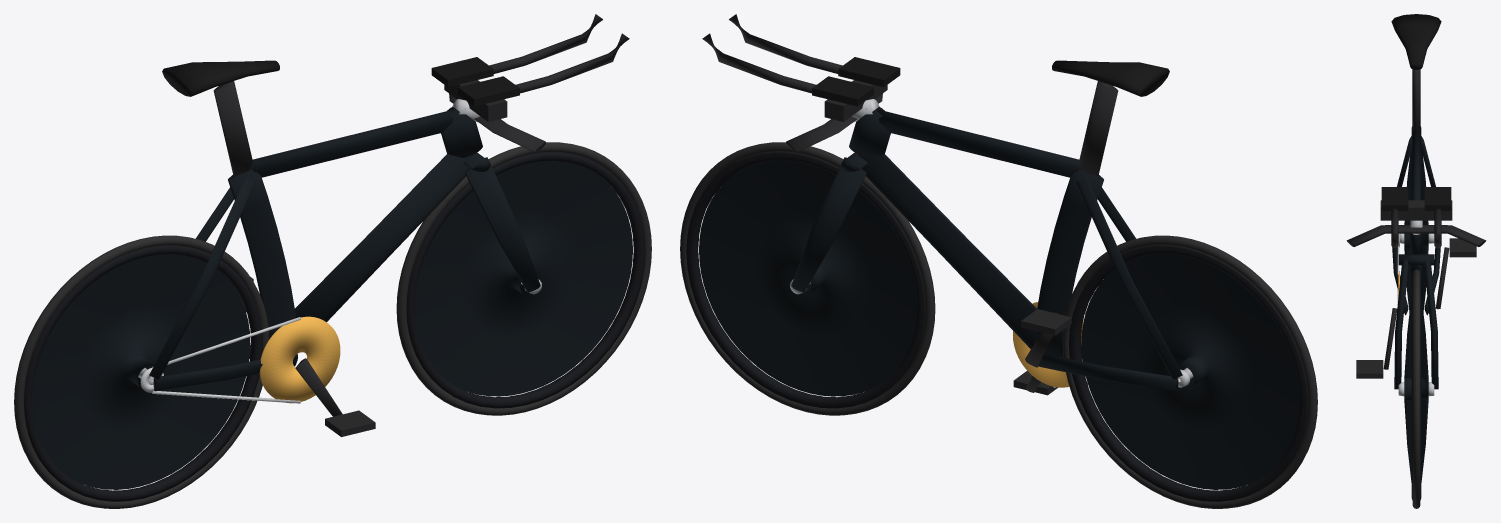
File: bike.glb
3 renders of one model, left to right at view 1: azimuth 30°, elevation 25°; view 2: azimuth 150°, elevation 25°; view 3: azimuth 270°, elevation 25°, orthographic. The views are drawn at different scales.
Visible parts, largest first — view 1: wheel_front_disc, wheel_rear_disc, wheel_front_rim, wheel_rear_rim, down_tube, wheel_rear_tyre, wheel_front_tyre, chainring, seat_tube, top_tube, fork_l, seatstay_l (+12 smaller); view 2: wheel_front_disc, wheel_rear_disc, wheel_front_rim, wheel_rear_rim, down_tube, wheel_rear_tyre, wheel_front_tyre, seat_tube, top_tube, fork_r, seatstay_r, saddle (+11 smaller); view 3: wheel_front_tyre, wheel_front_disc, saddle, base_bar, wheel_rear_disc, fork_l, fork_r, wheel_front_rim, pad_riser, armpad_l, armpad_r, top_tube (+14 smaller).
Boxes of the visible parts, x1,y1,x2,y2 form: wheel_front_disc: (415,160,632,396); wheel_rear_disc: (32,254,250,489); wheel_front_rim: (406,152,645,408); wheel_rear_rim: (24,245,262,501); down_tube: (295,154,473,322); wheel_rear_tyre: (14,235,269,508); wheel_front_tyre: (396,142,651,415); chainring: (259,316,340,403); seat_tube: (228,169,295,338); top_tube: (249,109,455,177); fork_l: (465,157,540,292); seatstay_l: (149,177,255,379); wheel_front_disc: (699,160,916,396); wheel_rear_disc: (1081,254,1299,489); wheel_front_rim: (686,152,925,408); wheel_rear_rim: (1069,245,1307,501); down_tube: (858,154,1039,348); wheel_rear_tyre: (1062,235,1317,508); wheel_front_tyre: (680,142,935,415); seat_tube: (1037,169,1103,357); top_tube: (876,109,1082,177); fork_r: (791,157,866,292); seatstay_r: (1076,177,1182,379); saddle: (1052,60,1169,96); wheel_front_tyre: (1412,269,1420,508); wheel_front_disc: (1404,295,1428,482); saddle: (1391,14,1441,69); base_bar: (1346,225,1486,246); wheel_rear_disc: (1404,150,1428,312); fork_l: (1394,260,1408,389); fork_r: (1424,260,1438,389); wheel_front_rim: (1411,278,1421,500); pad_riser: (1380,200,1452,220); armpad_l: (1381,187,1408,210); armpad_r: (1424,187,1451,210); top_tube: (1412,129,1420,200).
Size of the model in its own units: 1.67 by 1.06 by 0.3902.
